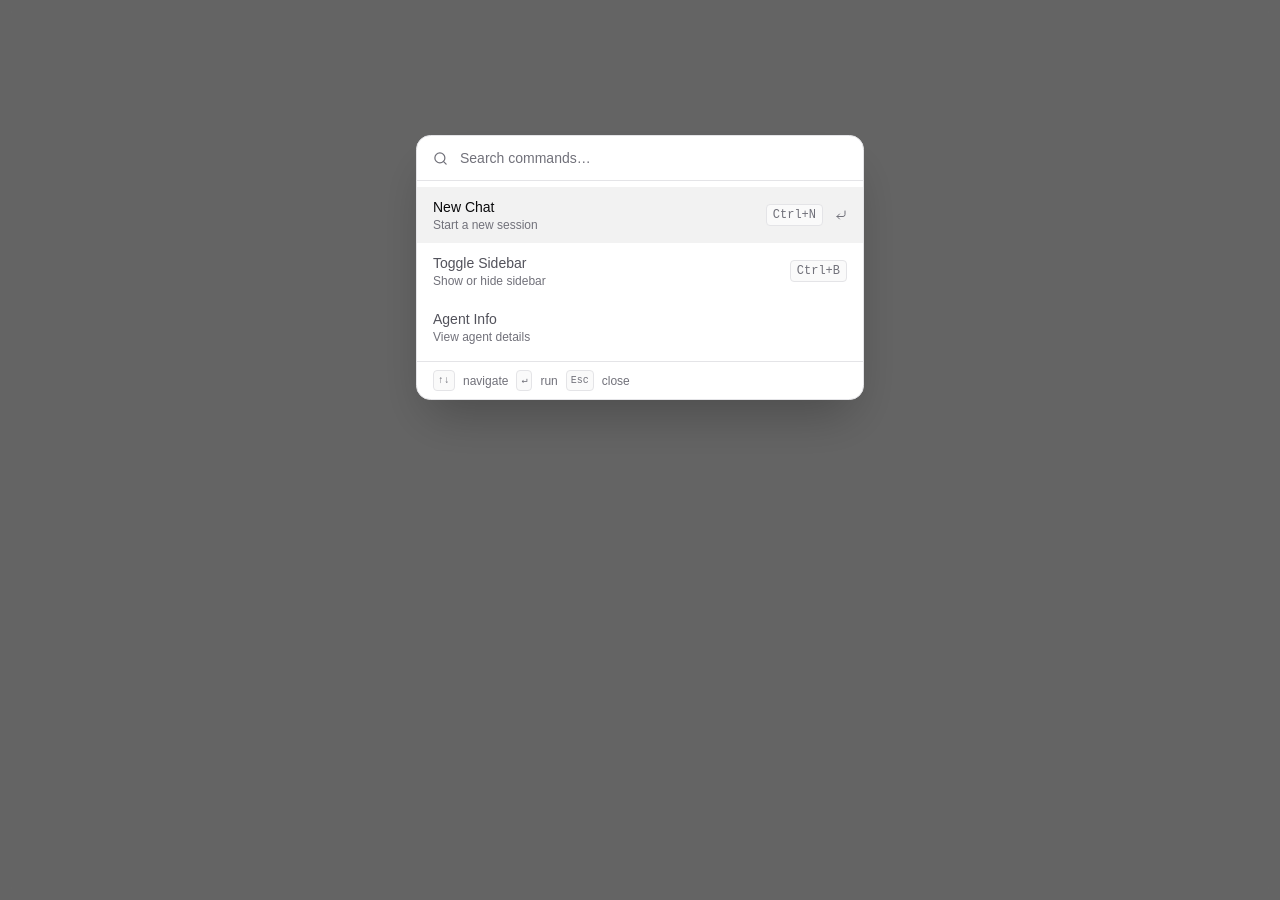
CommandPalette › filters commands by label query
In the field with placeholder "Search commands…": (654, 158) [460,148,847,168], type "new"
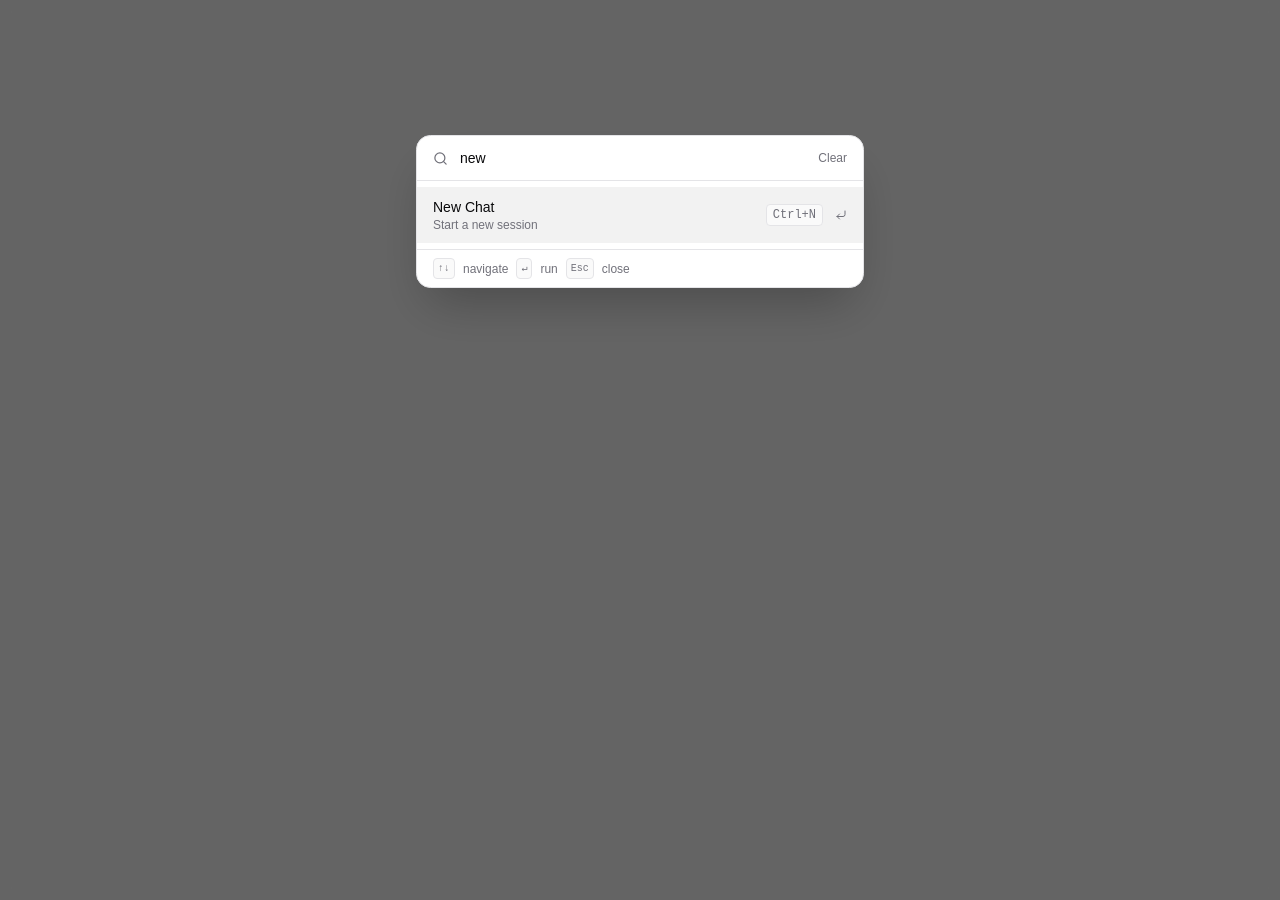
Expected: the text "New Chat" is shown, [433,199,494,215]
Result: the button "Toggle Sidebar" is gone
